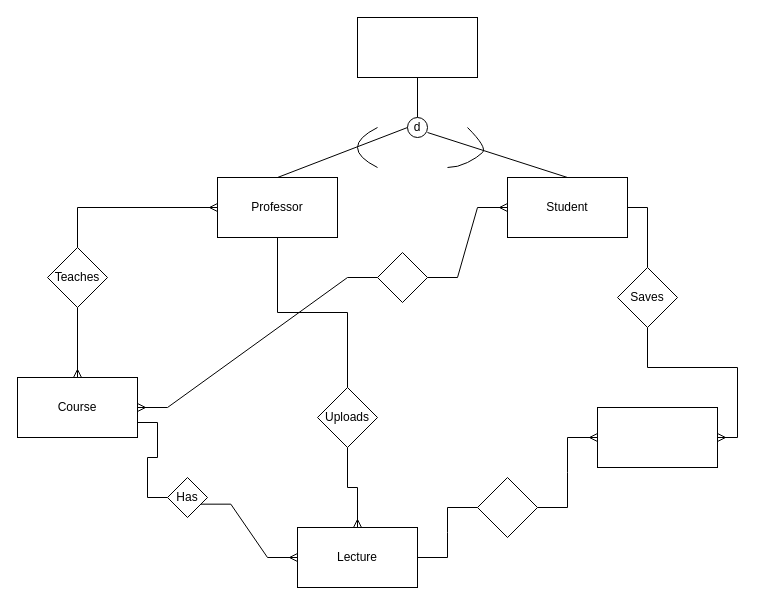
Some shapes in this 763 by 605 pixel diagram are drawn without their labels. The centre of each missing label's shape, as x and y in pixels:
isSaved: point 507,507
SavedLecture: point 657,437
Takes: point 402,277
User: point 417,47
